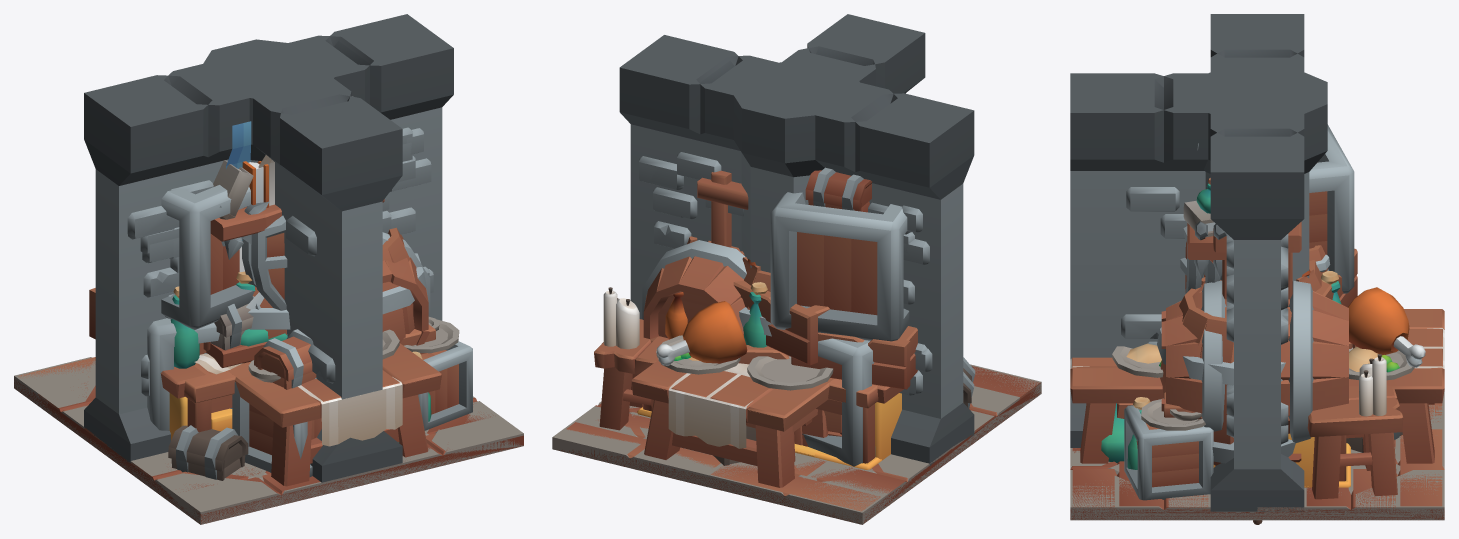
File: kit.glb
The picture shows the model from 3 angles, left to right: view 1: azimuth 30°, elevation 25°; view 2: azimuth 150°, elevation 25°; view 3: azimuth 270°, elevation 25°; orthographic projection. The views are drawn at different scales.
Parts seen in each view (by area): view 1: wall, wall_corner, box_stacked, floor_tile_large, wall_shelves, wall_archedwindow_open, table_long_tablecloth_decorated_A, wall_window_open, floor_wood_large, keg_decorated, table_long, bed_decorated (+8 smaller); view 2: wall_shelves, box_stacked, wall_corner, table_long_tablecloth_decorated_A, wall, floor_tile_large, floor_wood_large, keg_decorated, bed_decorated, wall_half, pillar_decorated, table_long (+8 smaller); view 3: wall_corner, wall, bed_decorated, keg_decorated, table_long_tablecloth_decorated_A, box_stacked, floor_wood_large, wall_shelves, floor_tile_large, wall_half, table_long, wall_archedwindow_open (+8 smaller).
Part boxes in pixels (left/top/right/bottom): wall: left=84, top=14, right=453, bottom=461; wall_corner: left=85, top=54, right=402, bottom=482; box_stacked: left=147, top=185, right=431, bottom=480; floor_tile_large: left=14, top=357, right=523, bottom=524; wall_shelves: left=84, top=14, right=452, bottom=463; wall_archedwindow_open: left=95, top=108, right=442, bottom=413; table_long_tablecloth_decorated_A: left=235, top=329, right=441, bottom=486; wall_window_open: left=119, top=108, right=442, bottom=413; floor_wood_large: left=14, top=357, right=523, bottom=524; keg_decorated: left=89, top=232, right=430, bottom=398; table_long: left=228, top=343, right=441, bottom=486; bed_decorated: left=404, top=317, right=472, bottom=430; wall_shelves: left=619, top=56, right=968, bottom=466; box_stacked: left=687, top=167, right=975, bottom=466; wall_corner: left=759, top=14, right=965, bottom=425; table_long_tablecloth_decorated_A: left=631, top=282, right=833, bottom=487; wall: left=638, top=35, right=974, bottom=450; floor_tile_large: left=552, top=364, right=1041, bottom=524; floor_wood_large: left=558, top=366, right=1040, bottom=524; keg_decorated: left=642, top=240, right=917, bottom=403; bed_decorated: left=594, top=287, right=795, bottom=461; wall_half: left=620, top=35, right=818, bottom=216; pillar_decorated: left=745, top=59, right=866, bottom=272; table_long: left=631, top=360, right=834, bottom=487; wall_corner: left=1070, top=15, right=1304, bottom=447; wall: left=1210, top=14, right=1304, bottom=511; bed_decorated: left=1117, top=354, right=1403, bottom=500; keg_decorated: left=1161, top=280, right=1348, bottom=462; table_long_tablecloth_decorated_A: left=1070, top=271, right=1444, bottom=463; box_stacked: left=1101, top=124, right=1402, bottom=469; floor_wood_large: left=1070, top=390, right=1444, bottom=520; wall_shelves: left=1183, top=14, right=1304, bottom=511; floor_tile_large: left=1070, top=391, right=1444, bottom=520; wall_half: left=1210, top=93, right=1304, bottom=511; table_long: left=1070, top=309, right=1444, bottom=441; wall_archedwindow_open: left=1226, top=240, right=1288, bottom=468.
Size of the model in its own units: 4 by 5.07 by 4.
Materials: 12 (11 with a texture image).
